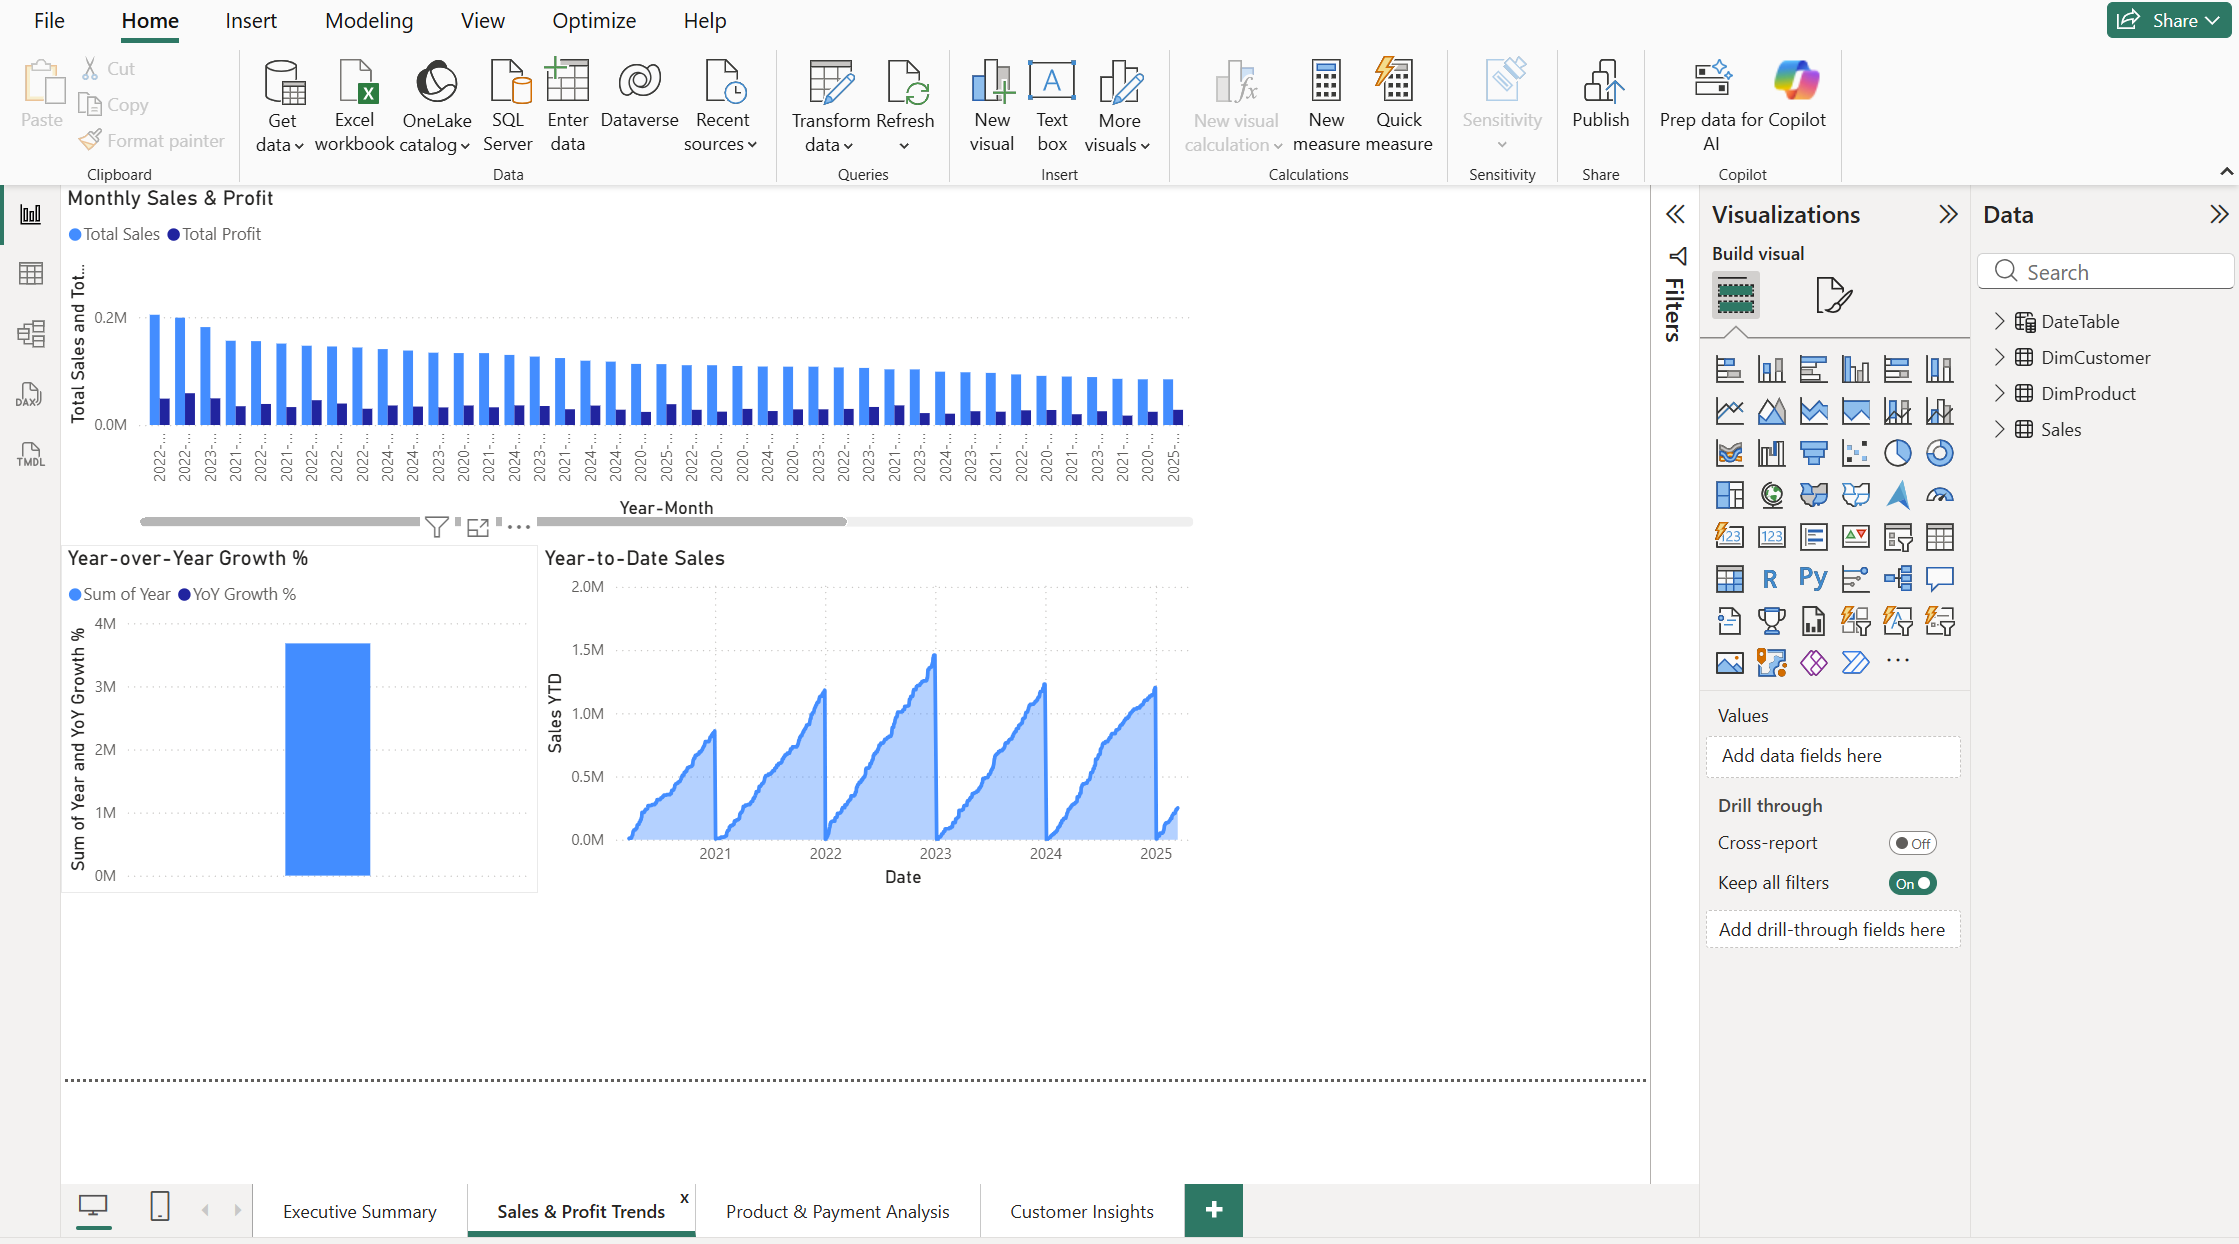

This screenshot's page, from the dashboard's own definition file:
{"tool":"powerbi","page":{"name":"Sales & Profit Trends","canvas":[1280,720],"ordinal":1},"visuals":[{"type":"lineClusteredColumnComboChart","title":"Monthly Sales & Profit","fields":{"Category":["DateTable.Year-Month"],"Y":["Sales.Total Sales","Sales.Total Profit"]},"box":[0,0,917,280],"z":0},{"type":"columnChart","title":"Year-over-Year Growth %","fields":{"Y":["Sum(DateTable.Year)","Sales.YoY Growth %"]},"box":[0,290,384,280],"z":1},{"type":"areaChart","title":"Year-to-Date Sales","fields":{"Category":["DateTable.Date"],"Y":["Sales.Sales YTD"]},"box":[384,290,533,280],"z":2}]}

Visuals, with their boxes on the page's 1280x720 design canvas (x1, y1, x2, y2). These are canvas units, not pixel positions in the 2239x1244 screenshot, which may show the page scaled, cropped or inside an application window:
"Monthly Sales & Profit" lineClusteredColumnComboChart: x1=0 y1=0 x2=917 y2=280
"Year-over-Year Growth %" columnChart: x1=0 y1=290 x2=384 y2=570
"Year-to-Date Sales" areaChart: x1=384 y1=290 x2=917 y2=570
